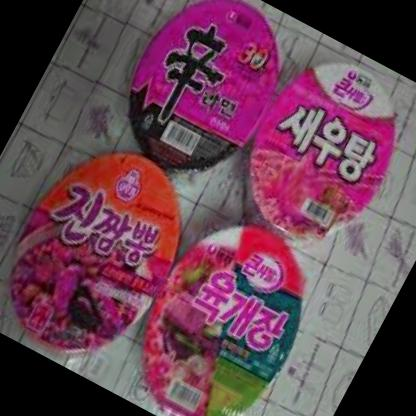Ramen: (0, 126, 211, 378), (219, 38, 416, 270), (118, 208, 331, 416), (102, 0, 307, 198)
